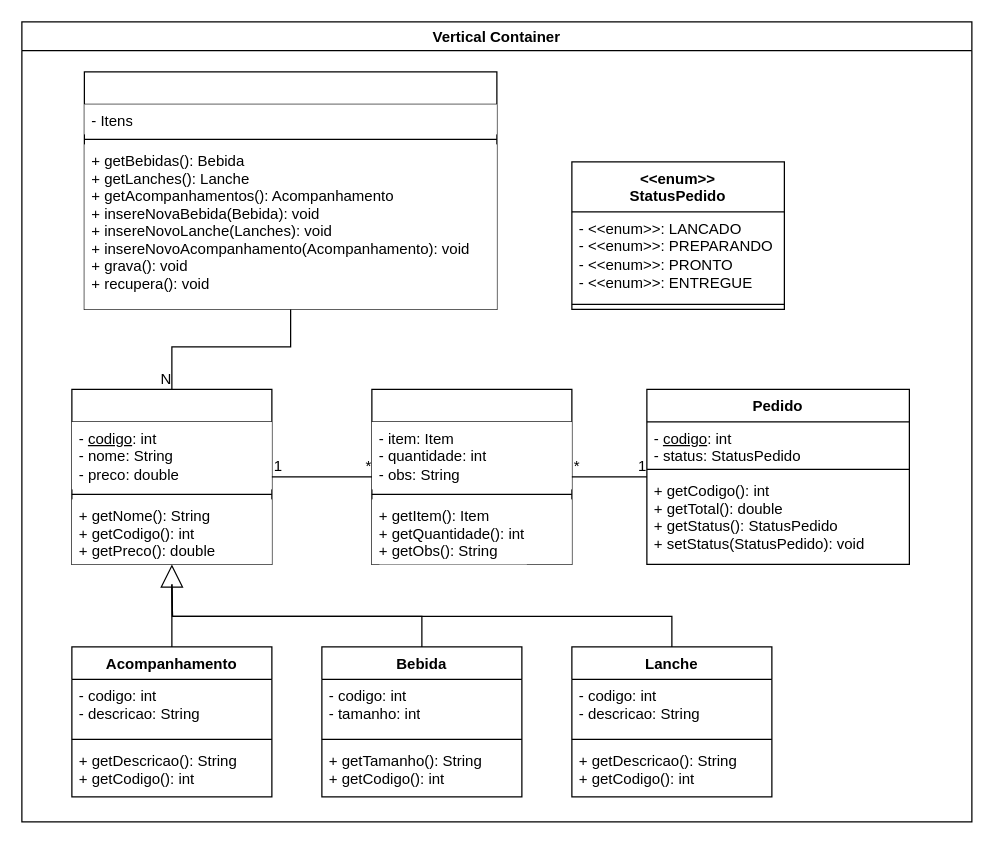
Image size: 994x844. Some labels were removed from this diagram. The shapes that lost their labels are listed below. From the top down, each one's box as (x1, y1, x2, y2) in pixels, then its label:
(83, 71, 497, 309): Cardapio
(71, 388, 272, 564): Item
(371, 388, 572, 564): ItemPedido
